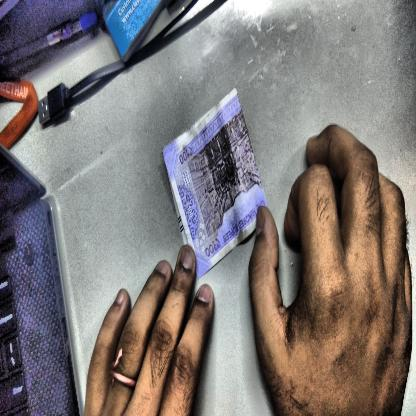Rs100: (176, 141, 197, 170)
